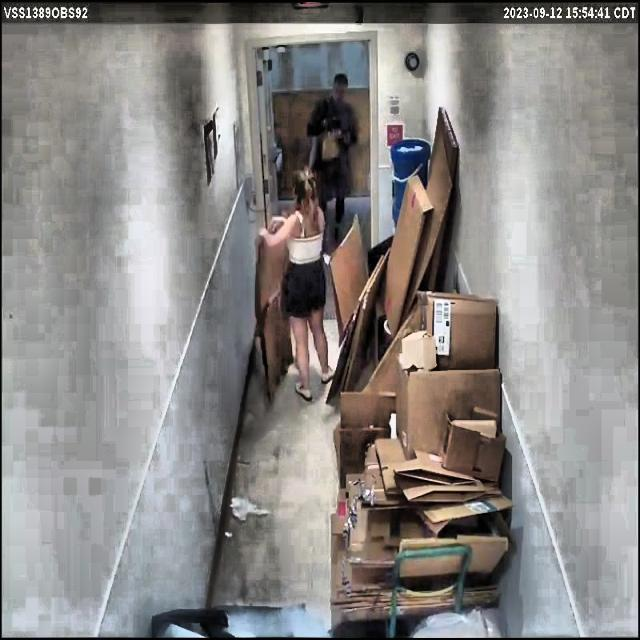not-gloved: (262, 203, 284, 232), (253, 225, 270, 250)
